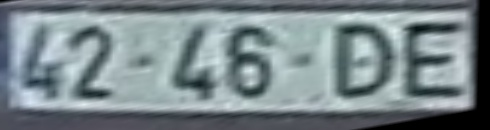2: (60, 22, 120, 103)
4: (16, 20, 71, 105), (168, 25, 224, 105)
6: (221, 25, 280, 103)
D: (328, 23, 400, 106)
E: (397, 19, 465, 101)
